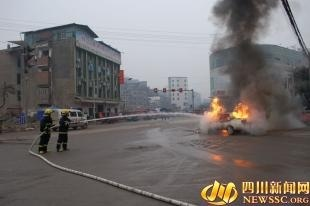fire: (202, 93, 254, 123)
